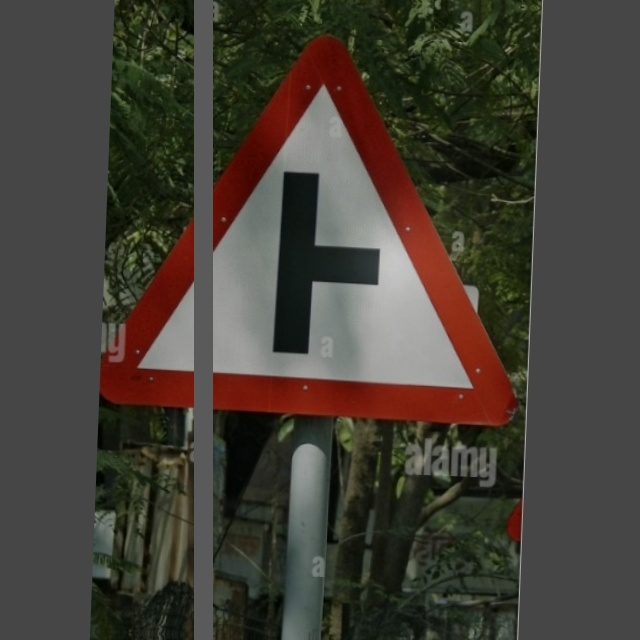Side_Road_Right: (135, 30, 518, 428)
